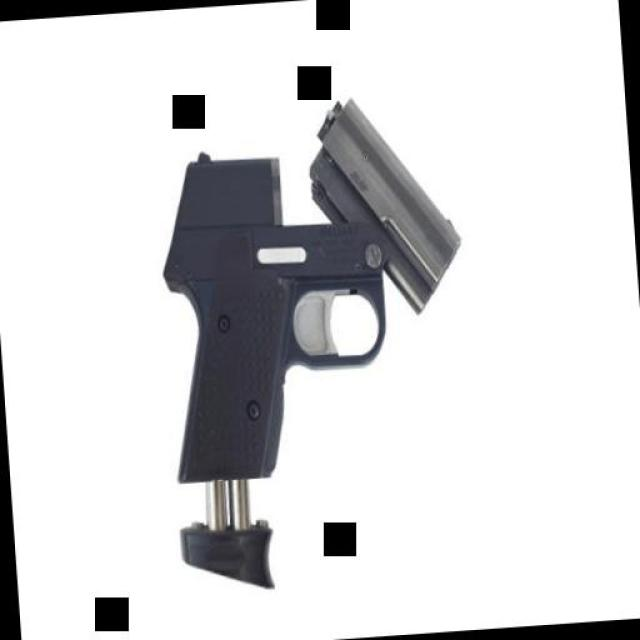gun: (106, 90, 496, 608)
